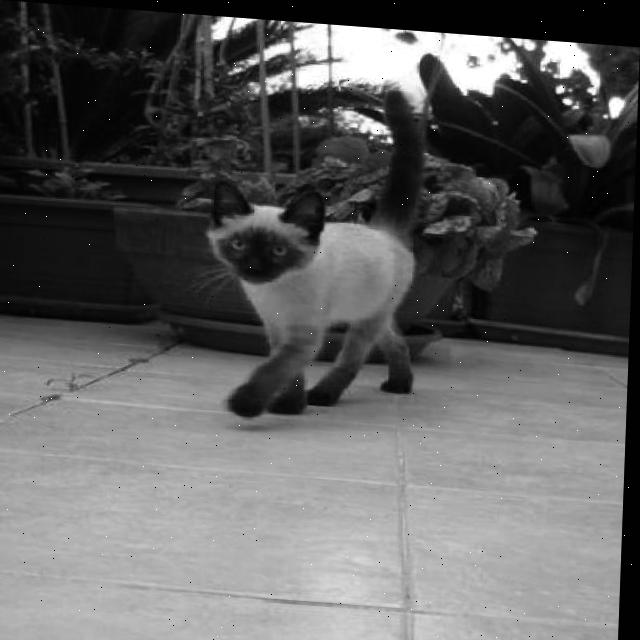Cat: (199, 74, 426, 427)
